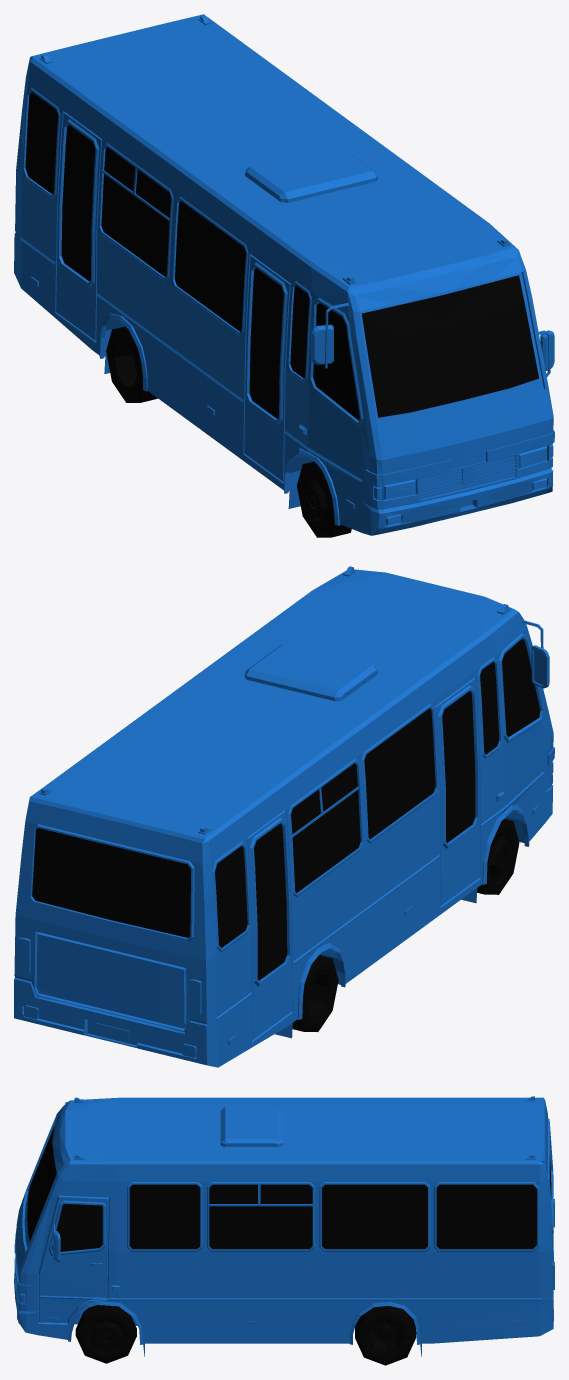
Rendered from HALF_minibus_5.fbx.
3 views of the same model, one above another, from view 1: azimuth 30°, elevation 25°; view 2: azimuth 150°, elevation 25°; view 3: azimuth 270°, elevation 25° (orthographic). The views are drawn at different scales.
Visible parts, largest first — view 1: Cube_4, Cylinder_2, Cylinder_5; view 2: Cube_4, Cylinder_5, Cylinder_2; view 3: Cube_4, Cylinder_5, Cylinder_1.
Boxes of the visible parts, x1,y1,x2,y2 form: Cube_4: (14, 14, 554, 535); Cylinder_2: (297, 461, 351, 537); Cylinder_5: (106, 326, 157, 402); Cube_4: (14, 566, 554, 1067); Cylinder_5: (292, 955, 338, 1031); Cylinder_2: (477, 819, 519, 894); Cube_4: (14, 1096, 554, 1356); Cylinder_5: (355, 1306, 416, 1365); Cylinder_1: (75, 1305, 136, 1363).
Bounding box in the file's own units: 268 × 304 × 717.
